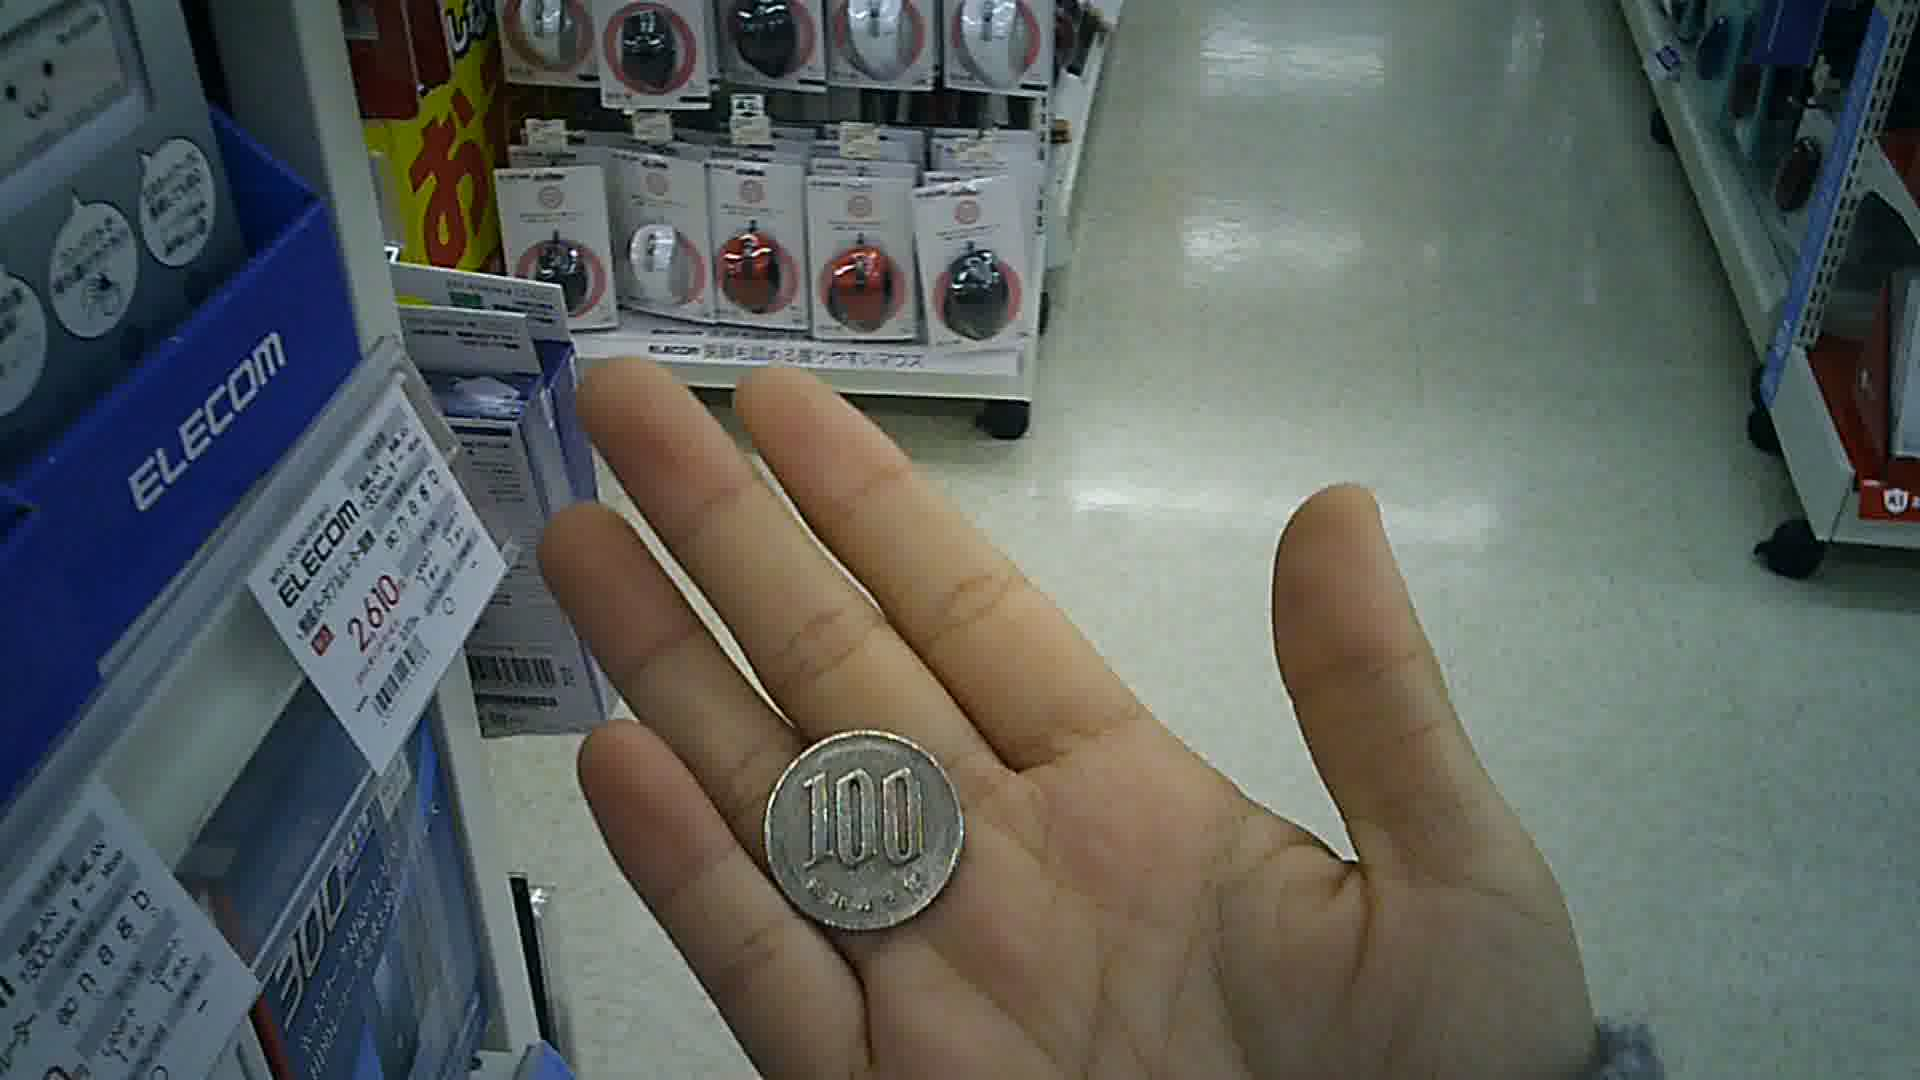100 Yen: (760, 725, 967, 931)
